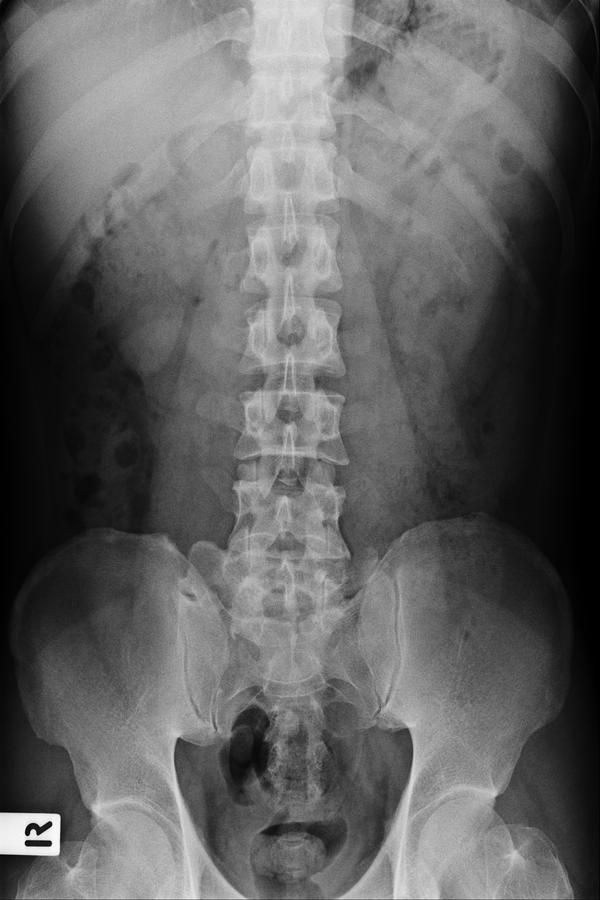not lumbar scoliosis: (225, 188, 357, 650)
